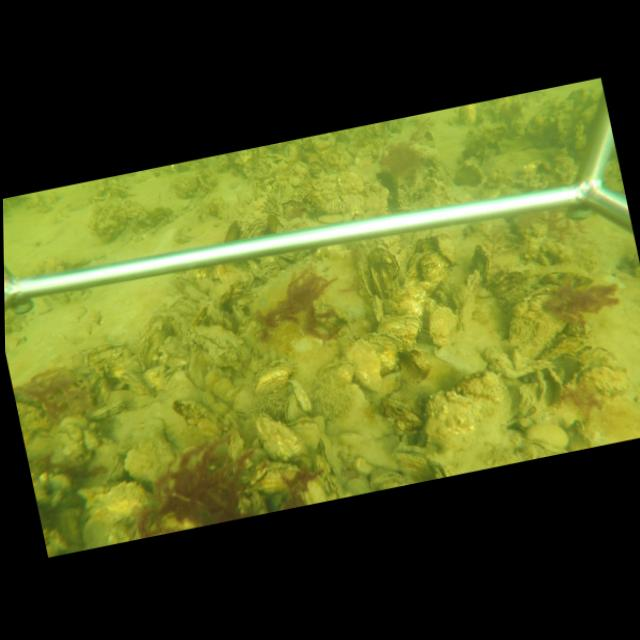Oyster-Closed: (81, 481, 154, 549), (508, 287, 572, 361), (344, 333, 401, 390), (254, 413, 308, 460), (366, 246, 400, 299), (374, 314, 421, 350), (252, 358, 296, 395), (184, 346, 215, 390), (536, 268, 592, 287), (319, 435, 343, 475), (87, 400, 125, 422), (456, 292, 475, 332), (472, 245, 493, 281), (291, 380, 313, 414), (101, 452, 123, 483), (283, 394, 301, 423), (371, 295, 385, 322)
Oyster-Indeterminate: (192, 324, 250, 375), (437, 233, 458, 265)
Oyster-Open: (248, 461, 304, 493), (529, 366, 568, 405), (355, 262, 386, 300)
